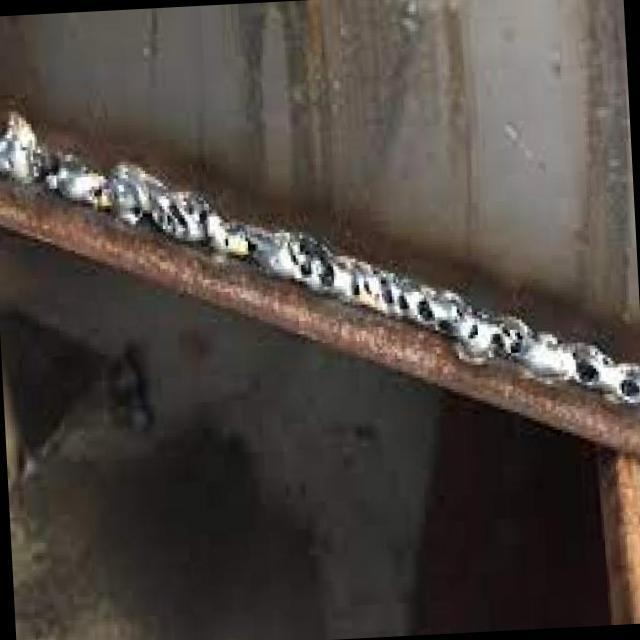defect: (286, 235, 339, 293), (152, 191, 213, 235), (348, 278, 412, 315), (485, 313, 529, 364), (411, 297, 455, 337), (568, 344, 600, 385), (27, 155, 63, 191), (616, 363, 640, 404), (123, 195, 145, 226), (240, 231, 261, 257), (464, 319, 481, 344), (91, 181, 107, 201), (223, 235, 232, 250)
